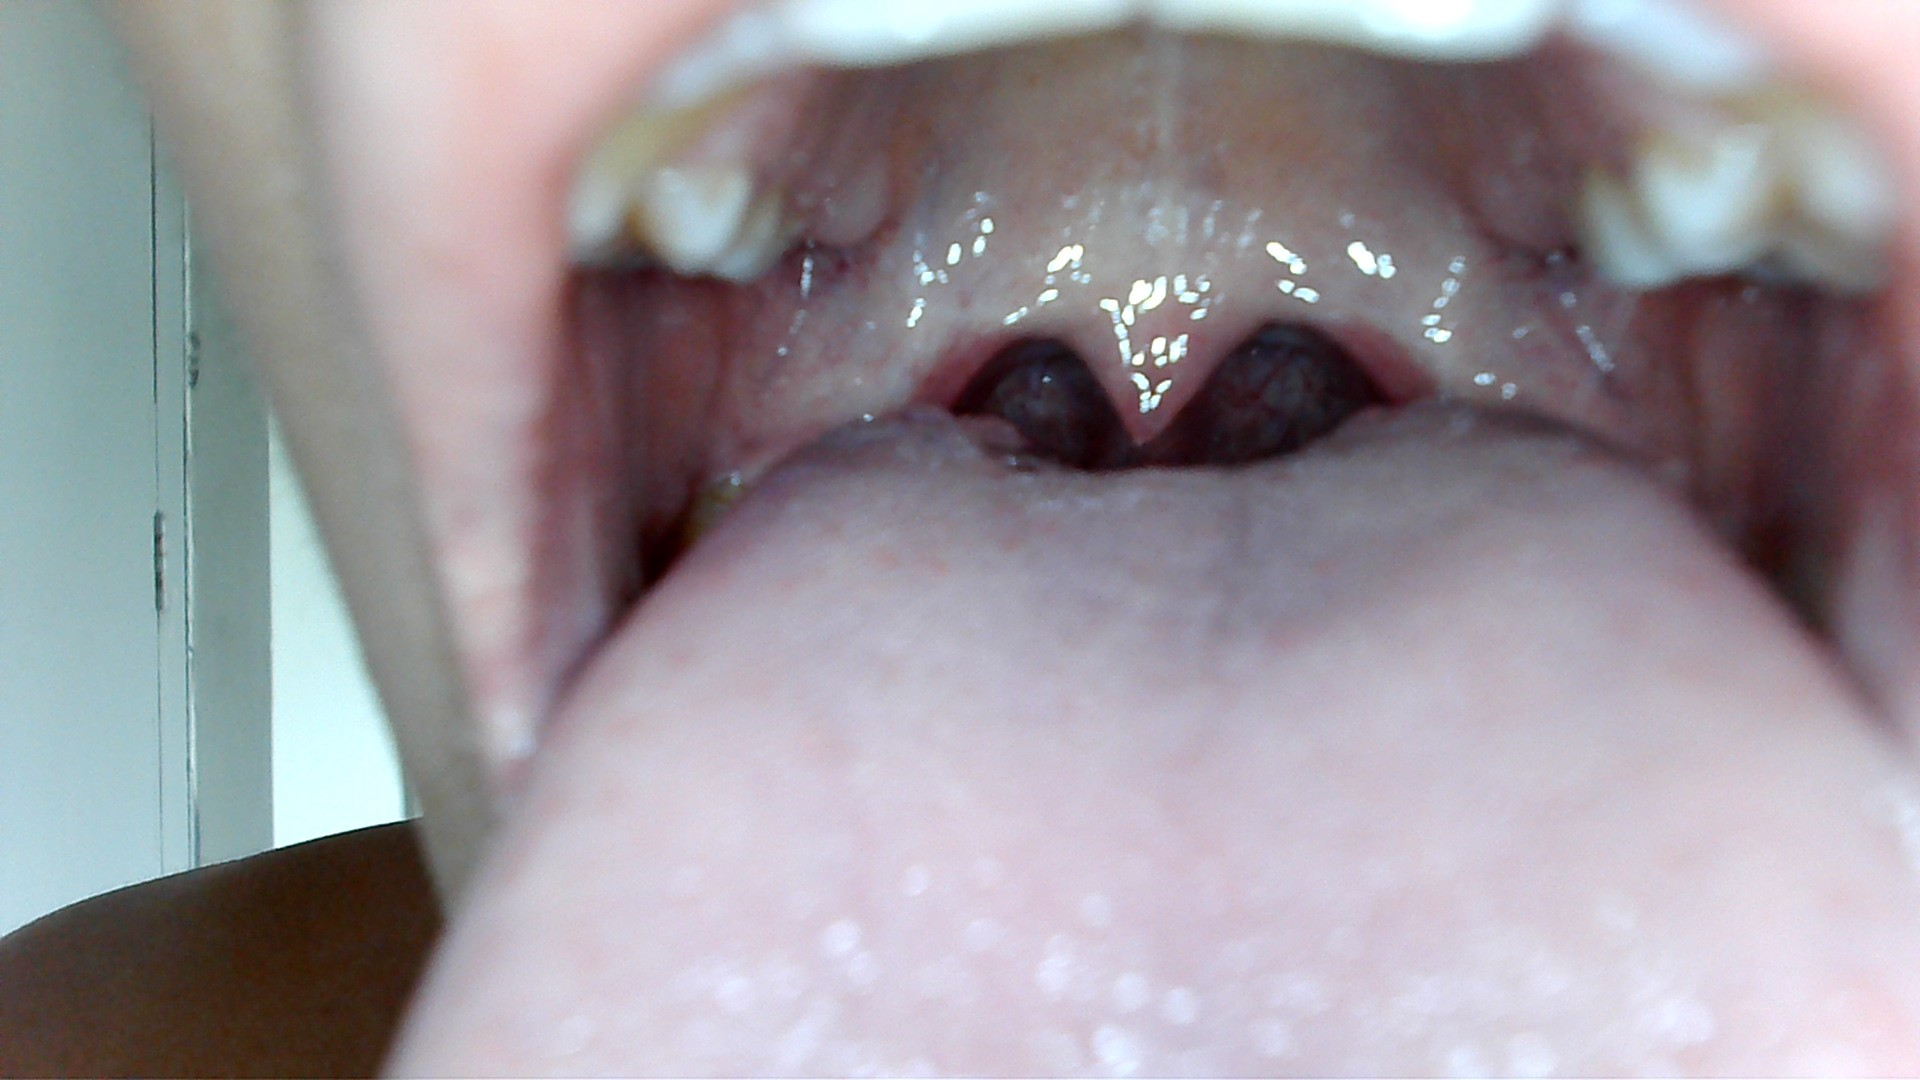throat: (1338, 268, 1563, 396), (833, 287, 986, 415)
